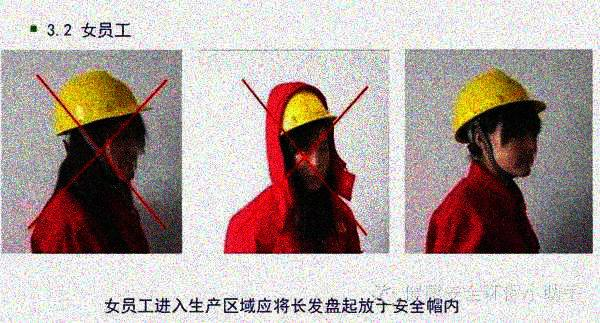helmet: (54, 69, 154, 187), (449, 66, 542, 182), (274, 89, 333, 189)
